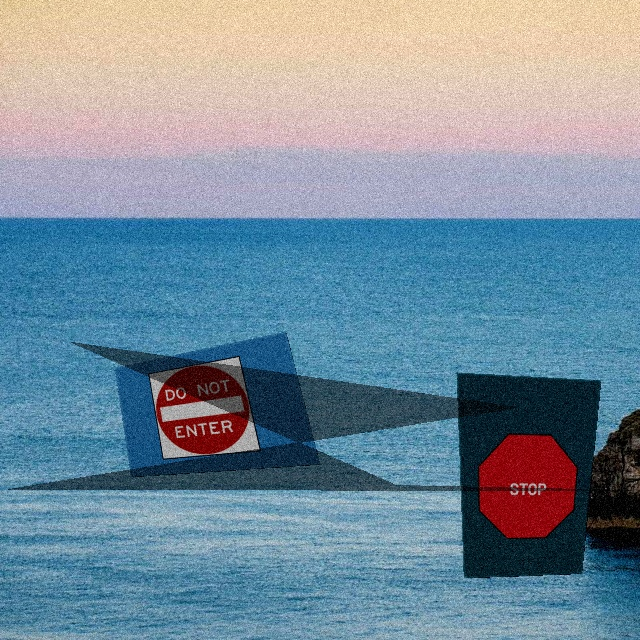DO_NOT_ENTER: (148, 354, 261, 467)
STOP: (478, 432, 581, 539)
